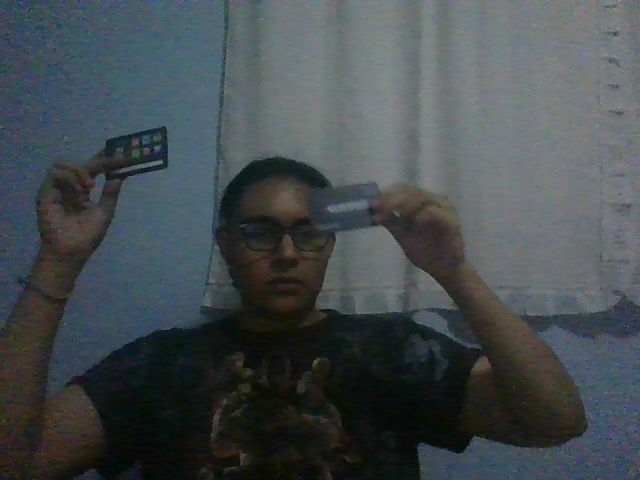tarjeta: (305, 181, 382, 233), (103, 125, 168, 181)
